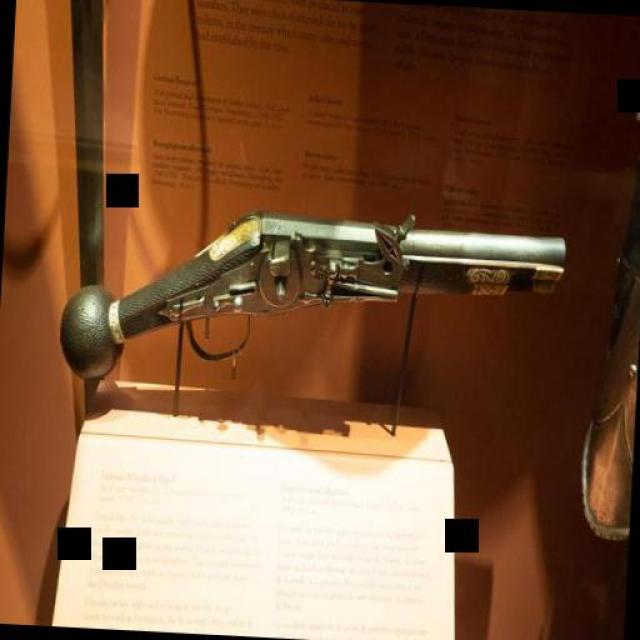gun: (50, 183, 571, 415)
